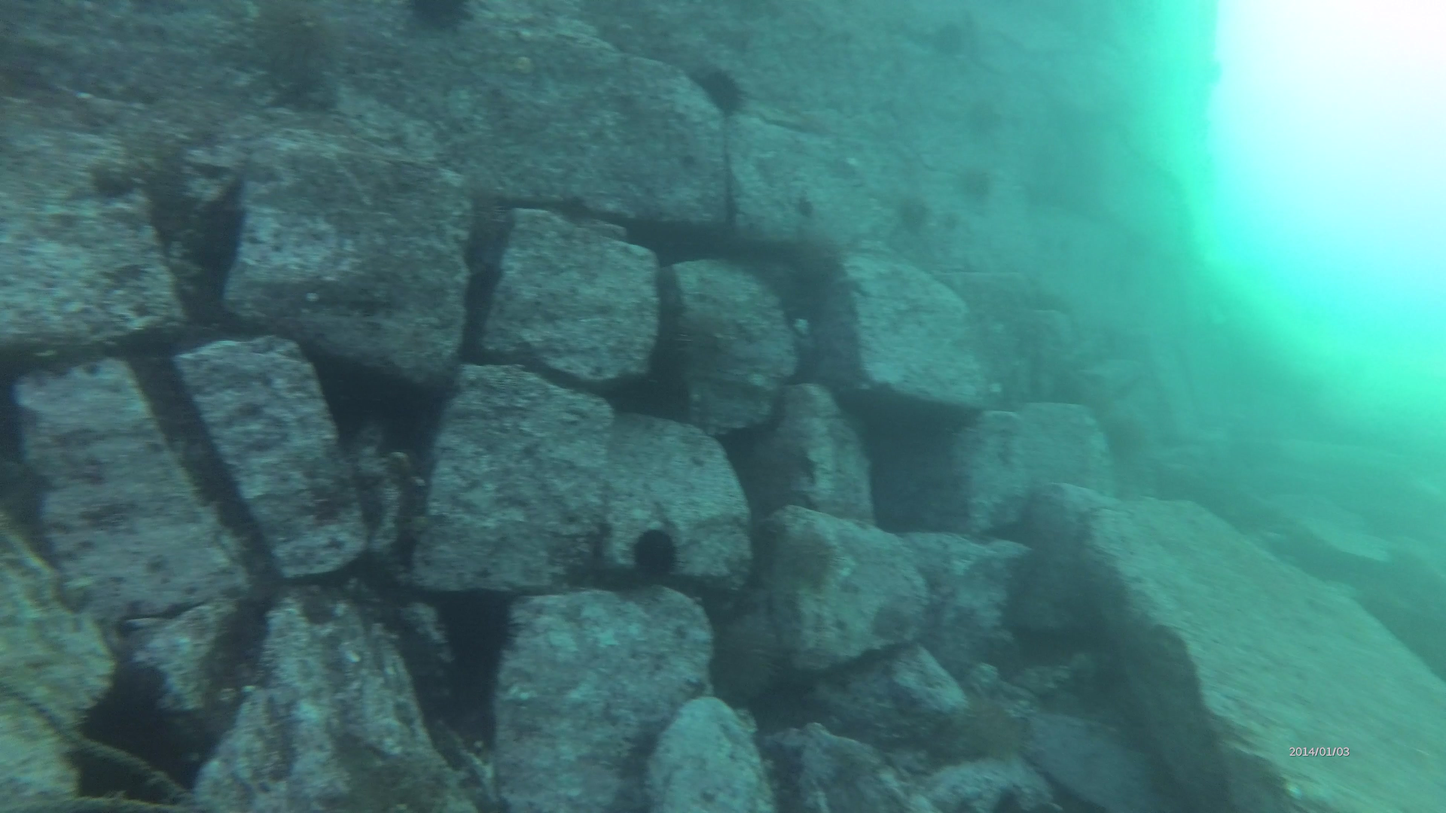starfish: (631, 525, 688, 586), (698, 66, 746, 118)
